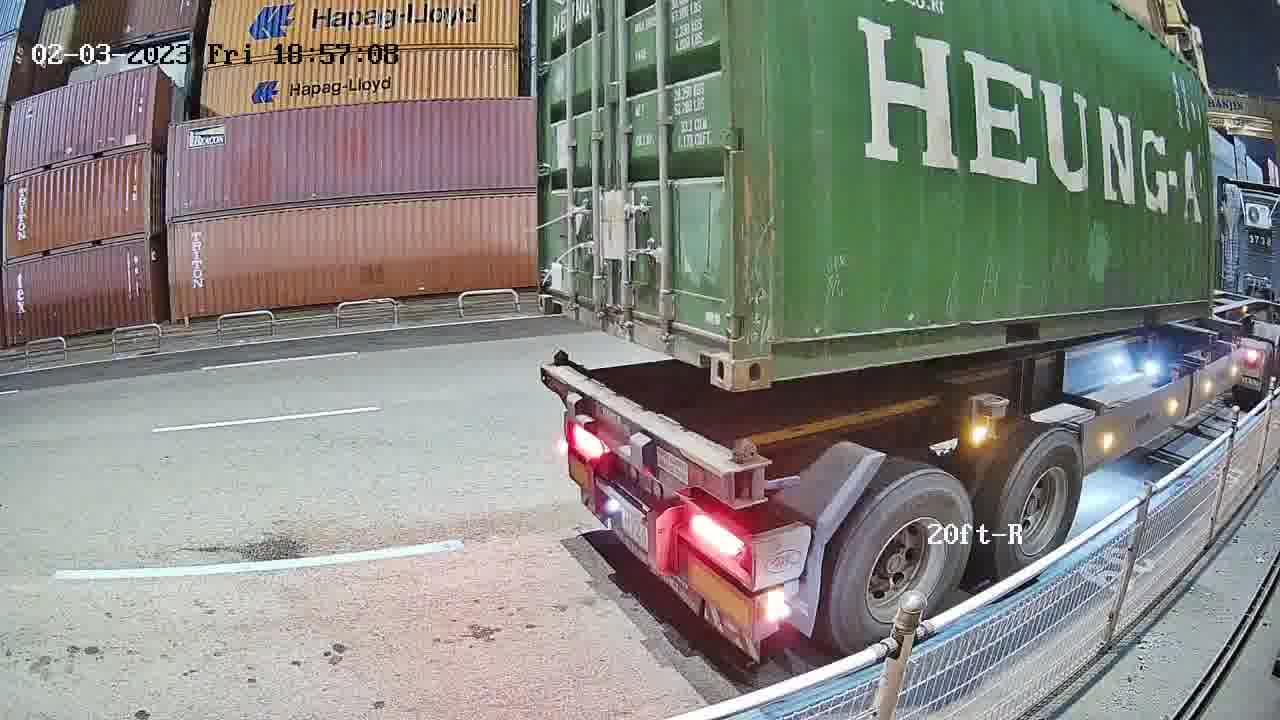Chassis: (541, 360, 763, 507)
Cone: (728, 438, 764, 503), (551, 348, 570, 364)
Hole_L: (734, 315, 810, 391), (537, 271, 568, 317)
Hole_R: (675, 302, 735, 390)
Tire: (836, 473, 975, 653), (996, 432, 1082, 585)
